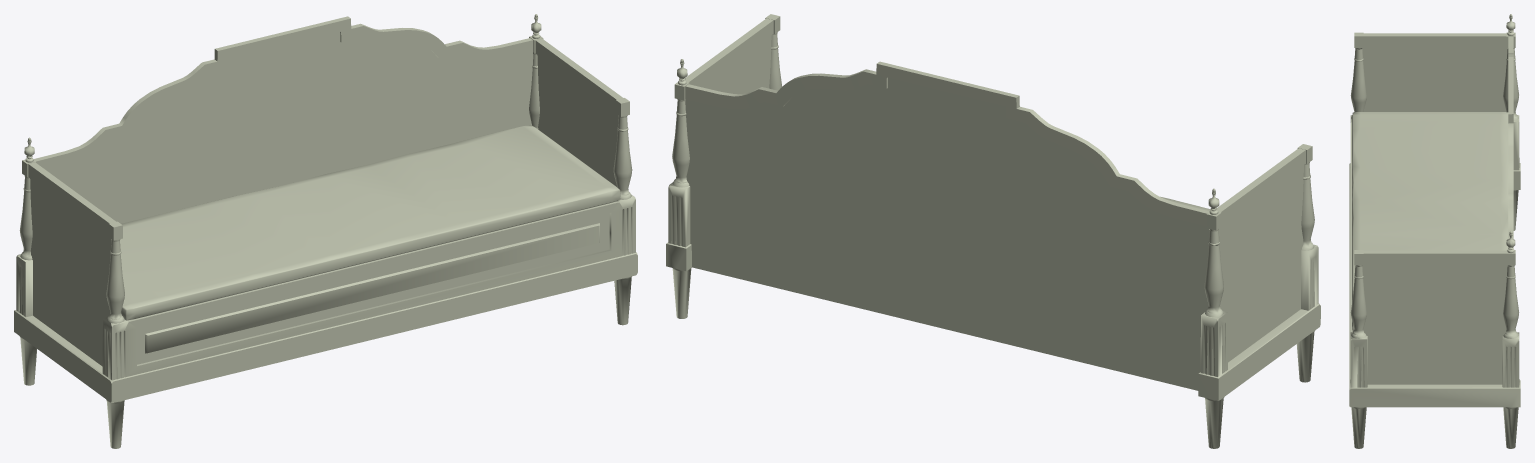
File: AtmajaFamilySofa.fbx
3 views of the same model, side by side, from view 1: azimuth 30°, elevation 25°; view 2: azimuth 150°, elevation 25°; view 3: azimuth 270°, elevation 25° (orthographic). The views are drawn at different scales.
Parts seen in each view (by area): view 1: painted_wooden_sofa; view 2: painted_wooden_sofa; view 3: painted_wooden_sofa.
Part boxes in pixels (x1=…): painted_wooden_sofa: x1=14, y1=14, x2=637, y2=448; painted_wooden_sofa: x1=666, y1=14, x2=1320, y2=448; painted_wooden_sofa: x1=1349, y1=14, x2=1520, y2=448.
Size of the model in its own units: 245 by 128 by 78.73.
